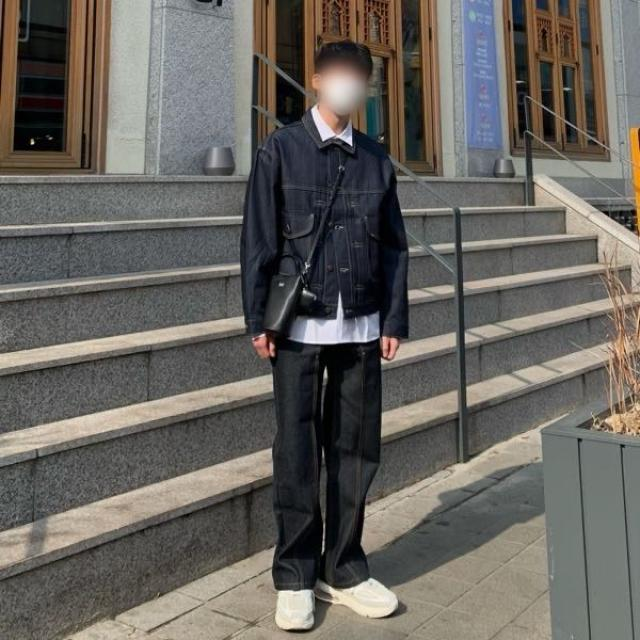denimpants: (276, 336, 388, 592)
jacket: (239, 112, 408, 346)
